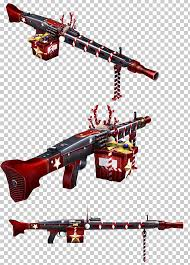gun: (5, 2, 158, 101), (1, 103, 152, 202), (7, 211, 184, 262)
